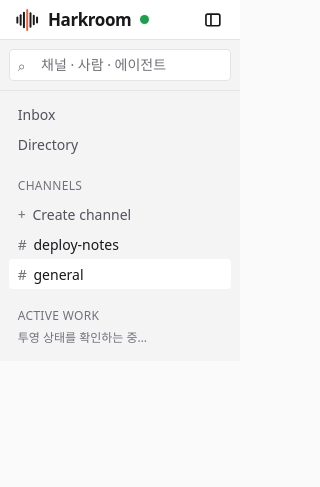
찾기가 사이드바 맨 위로 (A · 찾기가 맨 위로) › 3. 고르면 그것이 열린다 › Escape 가 검색어를 비운다 — 결과를 걷는 유일한 길이 마우스여선 안 된다
The width and height of the screenshot is (320, 487).
Type "de" into the field with test id "sidebar-find".
click(120, 65); type("de")  # box [9,49,231,81]
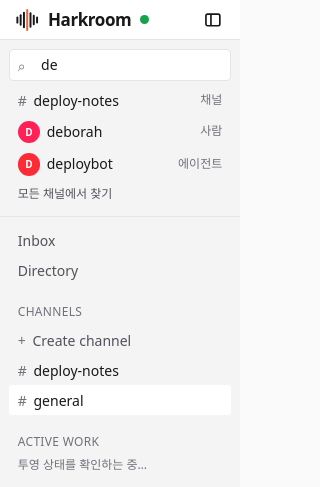
Press Escape in the field with test id "sidebar-find", box [9,49,231,81]
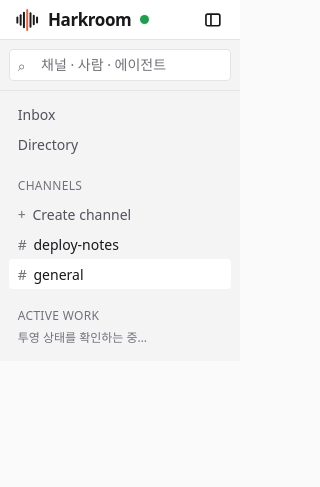
Expected: the field with test id "sidebar-find" is empty, [9,49,231,81]
Expected: the list with test id "sidebar-find-results" is gone
